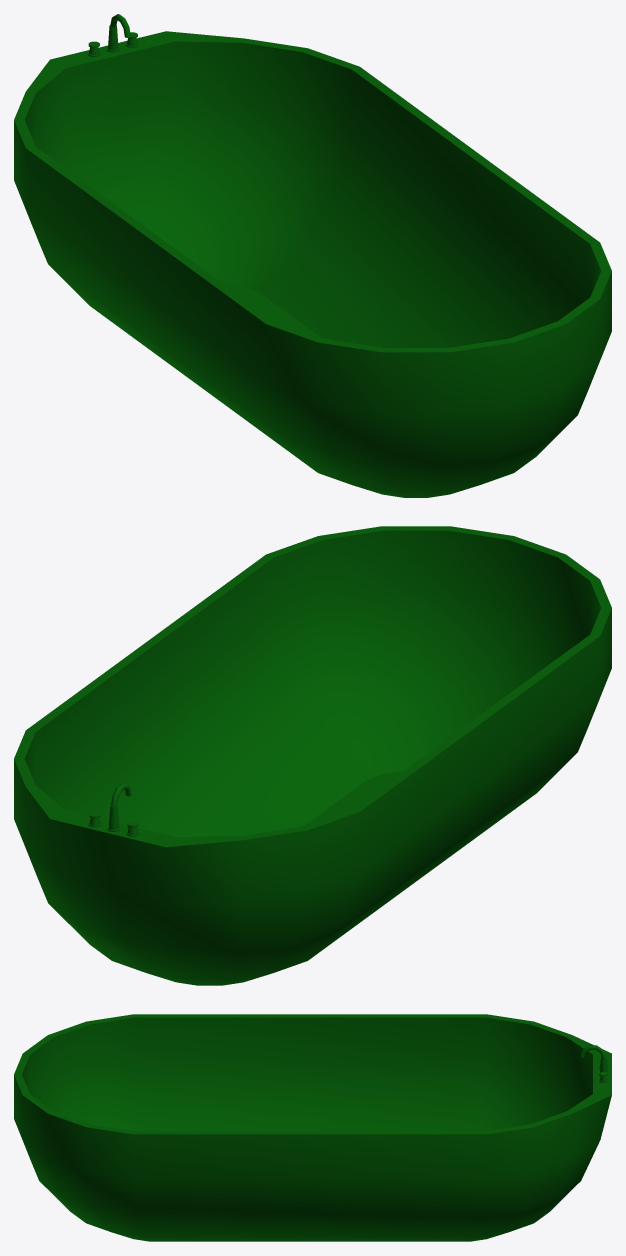
Rendered from Bathub2.FBX.
3 views of the same model, one above another, from view 1: azimuth 30°, elevation 25°; view 2: azimuth 150°, elevation 25°; view 3: azimuth 270°, elevation 25° (orthographic). The views are drawn at different scales.
Visible parts, largest first — view 1: Sphere004; view 2: Sphere004; view 3: Sphere004.
Boxes of the visible parts, left/top/right/bottom form: Sphere004: left=14, top=14, right=611, bottom=497; Sphere004: left=14, top=526, right=611, bottom=985; Sphere004: left=14, top=1014, right=611, bottom=1241.
Bounding box in the file's own units: 1.78 × 1.21 × 3.75.
